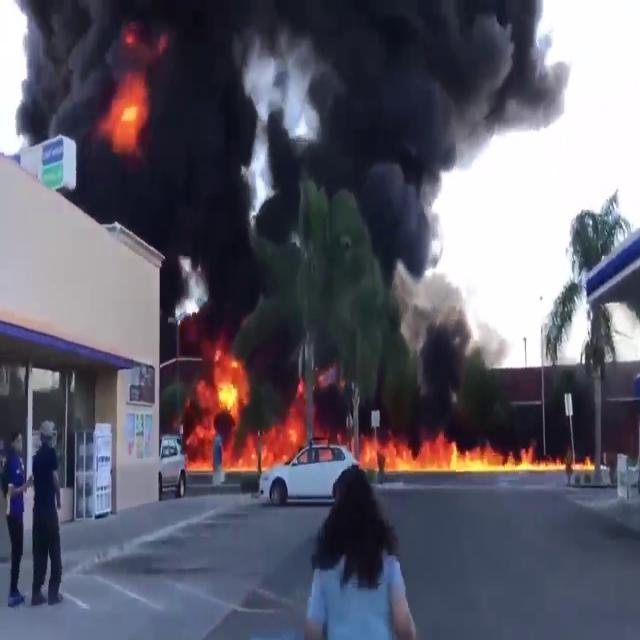Fire: (179, 358, 307, 474), (385, 427, 550, 472)
Smoke: (262, 0, 584, 252), (10, 0, 256, 277)
